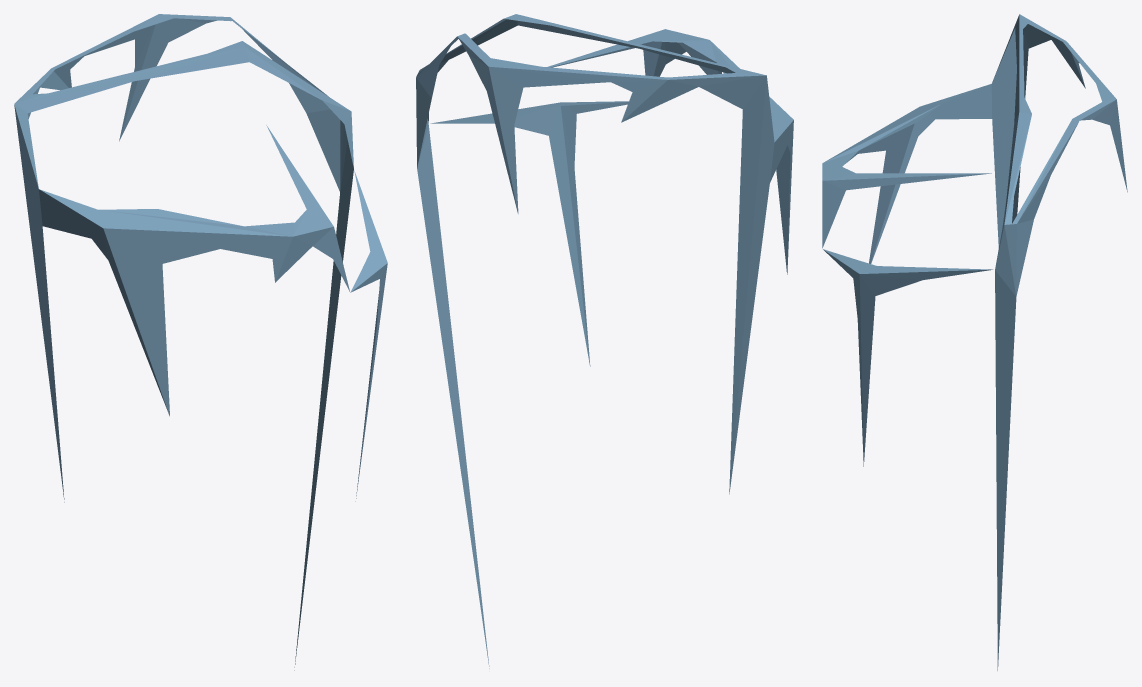
The model's file is Stone_Blue_A_03_Light.FBX.
3 renders of one model, left to right at view 1: azimuth 30°, elevation 25°; view 2: azimuth 150°, elevation 25°; view 3: azimuth 270°, elevation 25°, orthographic. The views are drawn at different scales.
Parts seen in each view (by area): view 1: Stone_Blue_A_03_Light; view 2: Stone_Blue_A_03_Light; view 3: Stone_Blue_A_03_Light.
Boxes of the visible parts, bbox=[...] form: Stone_Blue_A_03_Light: bbox=[14, 14, 387, 670]; Stone_Blue_A_03_Light: bbox=[416, 14, 793, 668]; Stone_Blue_A_03_Light: bbox=[822, 14, 1127, 670].
Bounding box in the file's own units: 1.25 × 2.28 × 1.16.
